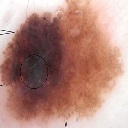Melanoma: (11, 10, 91, 110)
